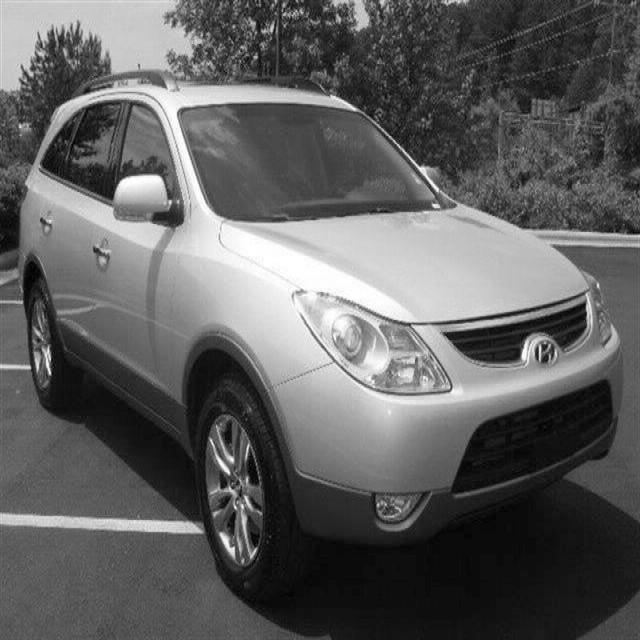car: (17, 65, 624, 604)
